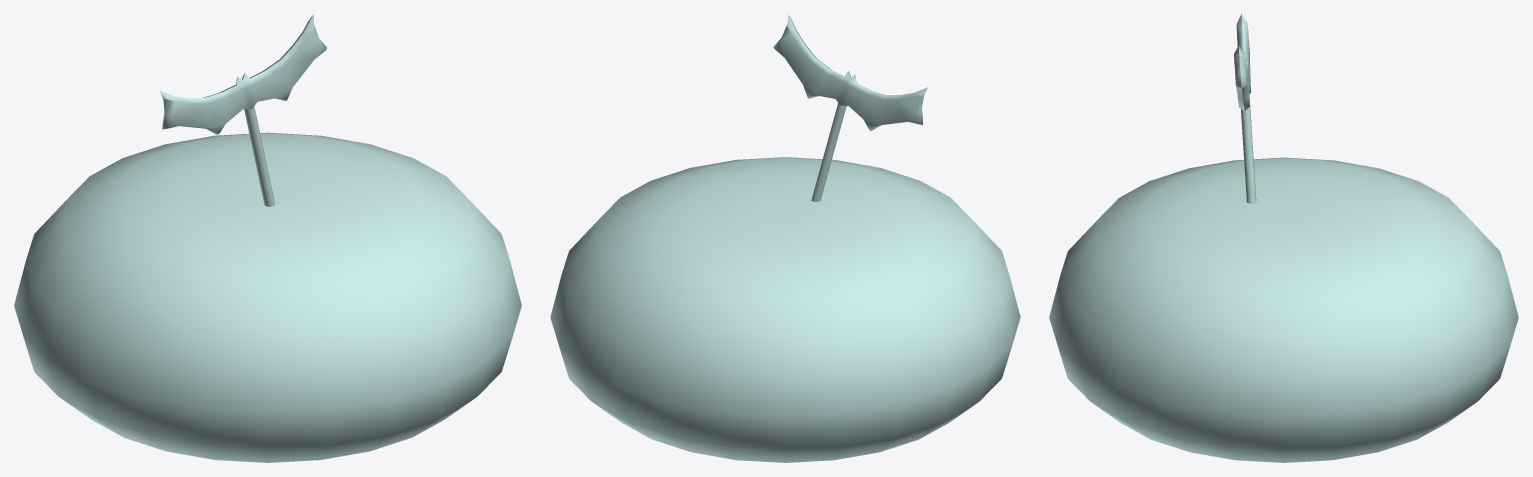
File: PROPS_GOODS_BEIGNET_MODEL.fbx
3 renders of one model, left to right at view 1: azimuth 30°, elevation 25°; view 2: azimuth 150°, elevation 25°; view 3: azimuth 270°, elevation 25°, orthographic. The views are drawn at different scales.
Parts seen in each view (by area): view 1: PROPS_GOODS_BEIGNET_MODEL_low; view 2: PROPS_GOODS_BEIGNET_MODEL_low; view 3: PROPS_GOODS_BEIGNET_MODEL_low.
Boxes of the visible parts, x1=… form: PROPS_GOODS_BEIGNET_MODEL_low: x1=14, y1=14, x2=521, y2=462; PROPS_GOODS_BEIGNET_MODEL_low: x1=550, y1=14, x2=1020, y2=462; PROPS_GOODS_BEIGNET_MODEL_low: x1=1049, y1=14, x2=1518, y2=462.
Bounding box in the file's own units: 13.09 × 11.26 × 13.09.
